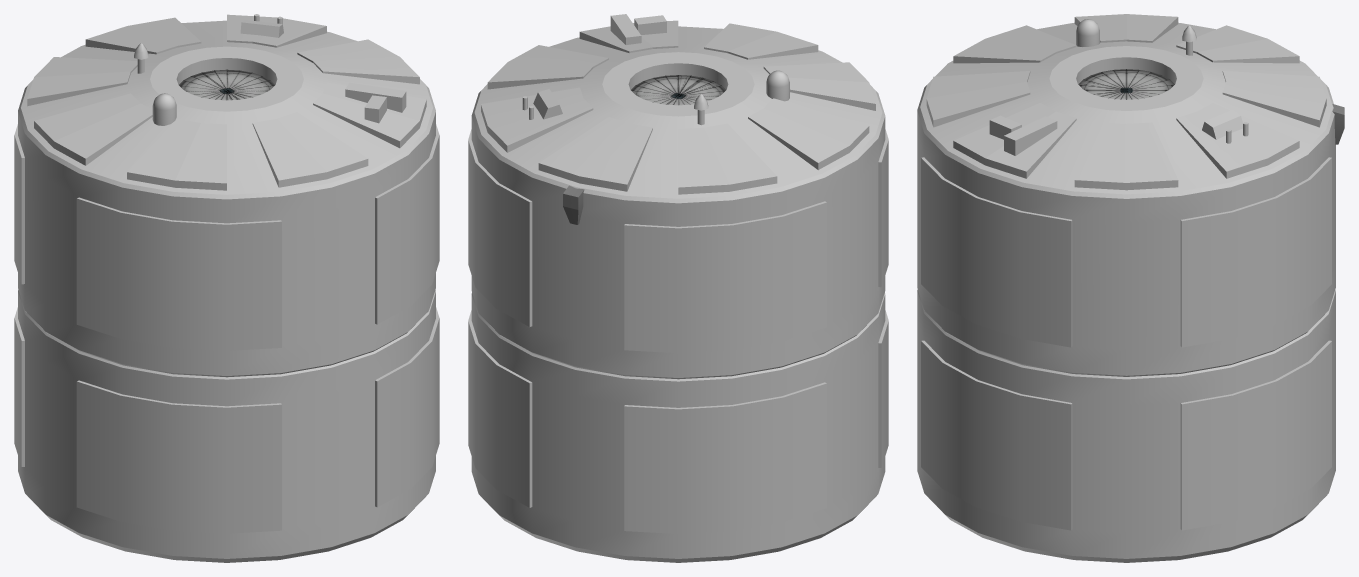
Rendered from AARDV_CargoModule.fbx.
3 views of the same model, side by side, from view 1: azimuth 30°, elevation 25°; view 2: azimuth 150°, elevation 25°; view 3: azimuth 270°, elevation 25° (orthographic).
Visible parts, largest first — view 1: polySurface82, pCylinder46 (×4), pCylinder47 (×4), polySurface74, pCube10, pSphere4, pCube9; view 2: polySurface82, pCylinder46 (×4), pCylinder47 (×4), polySurface74, pCube10, Spotlight, pSphere4, pCube9, pCube11; view 3: polySurface82, pCylinder46 (×4), pCylinder47 (×4), polySurface74, pCube10, pCube9, pSphere4.
Boxes of the visible parts, <box> form: polySurface82: <box>14,20,439,562</box>; pCylinder46 (×4): <box>34,17,419,187</box>; pCylinder47 (×4): <box>27,14,426,190</box>; polySurface74: <box>179,69,274,100</box>; pCube10: <box>345,82,406,112</box>; pSphere4: <box>152,93,176,125</box>; pCube9: <box>240,20,283,37</box>; polySurface82: <box>468,26,888,562</box>; pCylinder46 (×4): <box>487,23,869,191</box>; pCylinder47 (×4): <box>481,20,875,194</box>; polySurface74: <box>631,75,725,105</box>; pCube10: <box>610,14,641,44</box>; Spotlight: <box>563,185,584,224</box>; pSphere4: <box>766,70,789,101</box>; pCube9: <box>533,88,562,119</box>; pCube11: <box>634,15,666,34</box>; polySurface82: <box>917,22,1335,562</box>; pCylinder46 (×4): <box>926,14,1326,190</box>; pCylinder47 (×4): <box>953,25,1299,178</box>; polySurface74: <box>1078,69,1174,99</box>; pCube10: <box>1004,116,1057,155</box>; pCube9: <box>1202,110,1242,139</box>; pSphere4: <box>1076,19,1099,46</box>.
Bounding box in the file's own units: 2.57 × 2.88 × 2.62.
